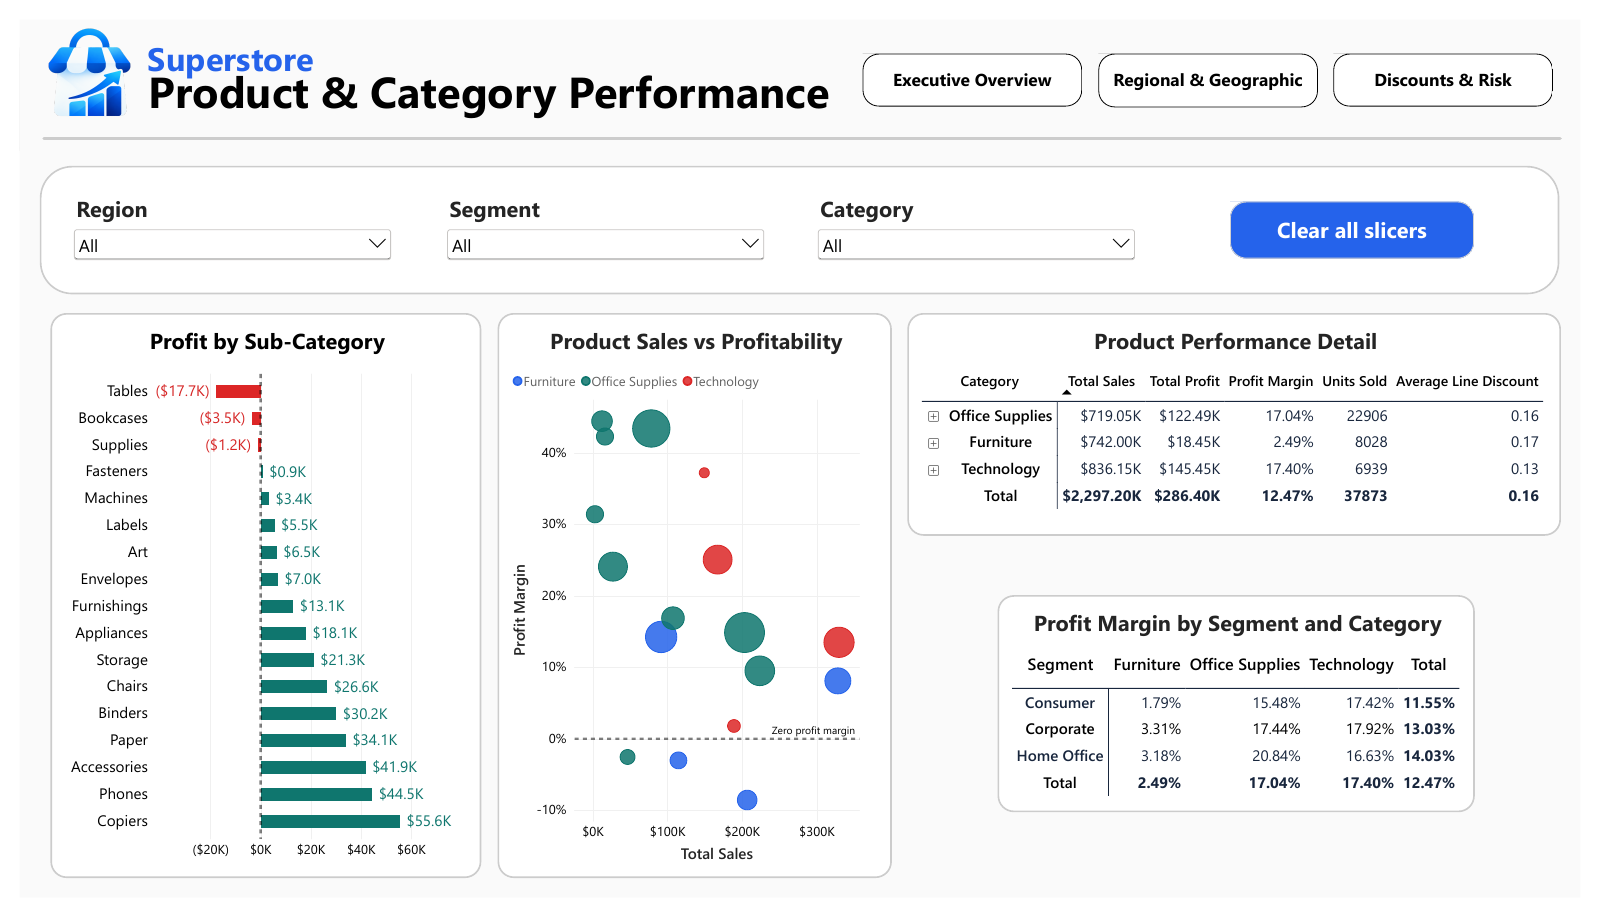

Layout of this report page (visuals, bound fields, positions):
{"tool":"powerbi","page":{"name":"Product & Category Performance","canvas":[1920,1080],"ordinal":1},"visuals":[{"type":"actionButton","box":[1037.2,42.5,270,65],"z":0},{"type":"shape","box":[25.5,180,1869,157.5],"z":0,"group":"g2"},{"type":"group","id":"g1","title":"Group 1","box":[157.5,21.2,850,110],"z":1000},{"type":"actionButton","box":[1327.4,42.5,270,65.5],"z":2000},{"type":"slicer","fields":{"Values":["Superstore.Region"]},"box":[62.7,215.4,400,90],"z":2000,"group":"g2"},{"type":"image","box":[0,0,173.5,132.7],"z":3000},{"type":"slicer","fields":{"Values":["Superstore.Segment"]},"box":[521.1,215.4,400,90],"z":3000,"group":"g2"},{"type":"actionButton","box":[1615.9,42.5,270,65],"z":4000},{"type":"slicer","fields":{"Values":["Superstore.Category"]},"box":[977.7,215.4,400,90],"z":4000,"group":"g2"},{"type":"shape","box":[28.3,111.5,1869,69],"z":5000},{"type":"actionButton","box":[1489.2,224.2,300,70],"z":5000,"group":"g2"},{"type":"clusteredBarChart","title":"Profit by Sub-Category","fields":{"Category":["Superstore.Sub-Category"],"Y":["Superstore.Total Profit"]},"box":[38.4,361,530,695],"z":6000},{"type":"scatterChart","title":"Product Sales vs Profitability","fields":{"Category":["Superstore.Sub-Category"],"Series":["Superstore.Category"],"Size":["Superstore.Units Sold"],"X":["Superstore.Total Sales"],"Y":["Superstore.Profit Margin"]},"box":[587.8,361,485,695],"z":7000},{"type":"textbox","title":"Superstore","box":[157.5,21.2,222.8,62.6],"z":8000,"group":"g1"},{"type":"pivotTable","title":"Product Performance Detail","fields":{"Rows":["Superstore.Category","Superstore.Sub-Category"],"Values":["Superstore.Total Sales","Superstore.Total Profit","Superstore.Profit Margin","Superstore.Units Sold","Superstore.Average Line Discount"]},"box":[1091.9,361,804.1,273.8],"z":8000},{"type":"pivotTable","title":"Profit Margin by Segment and Category","fields":{"Columns":["Superstore.Category"],"Rows":["Superstore.Segment"],"Values":["Superstore.Profit Margin"]},"box":[1203.5,708.1,586,266.9],"z":9000},{"type":"group","id":"g2","title":"Group 2","box":[25.5,180,1869.1,156.4],"z":10000},{"type":"textbox","title":"Product & Category Performance","box":[158.4,52.1,849.1,79.1],"z":17001,"group":"g1"}]}

Visuals, with their boxes in screenshot pixels (x1, y1, x2, y2), scaled from the page's 1920x1080 canvas onto the 1600x918 screenshot:
actionButton: [x1=864, y1=36, x2=1089, y2=91]
shape: [x1=21, y1=153, x2=1579, y2=287]
"Group 1" group: [x1=131, y1=18, x2=840, y2=112]
actionButton: [x1=1106, y1=36, x2=1331, y2=92]
slicer - Superstore.Region: [x1=52, y1=183, x2=386, y2=260]
image: [x1=0, y1=0, x2=145, y2=113]
slicer - Superstore.Segment: [x1=434, y1=183, x2=768, y2=260]
actionButton: [x1=1347, y1=36, x2=1572, y2=91]
slicer - Superstore.Category: [x1=815, y1=183, x2=1148, y2=260]
shape: [x1=24, y1=95, x2=1581, y2=153]
actionButton: [x1=1241, y1=191, x2=1491, y2=250]
"Profit by Sub-Category" clusteredBarChart: [x1=32, y1=307, x2=474, y2=898]
"Product Sales vs Profitability" scatterChart: [x1=490, y1=307, x2=894, y2=898]
"Superstore" textbox: [x1=131, y1=18, x2=317, y2=71]
"Product Performance Detail" pivotTable: [x1=910, y1=307, x2=1580, y2=540]
"Profit Margin by Segment and Category" pivotTable: [x1=1003, y1=602, x2=1491, y2=829]
"Group 2" group: [x1=21, y1=153, x2=1579, y2=286]
"Product & Category Performance" textbox: [x1=132, y1=44, x2=840, y2=112]
